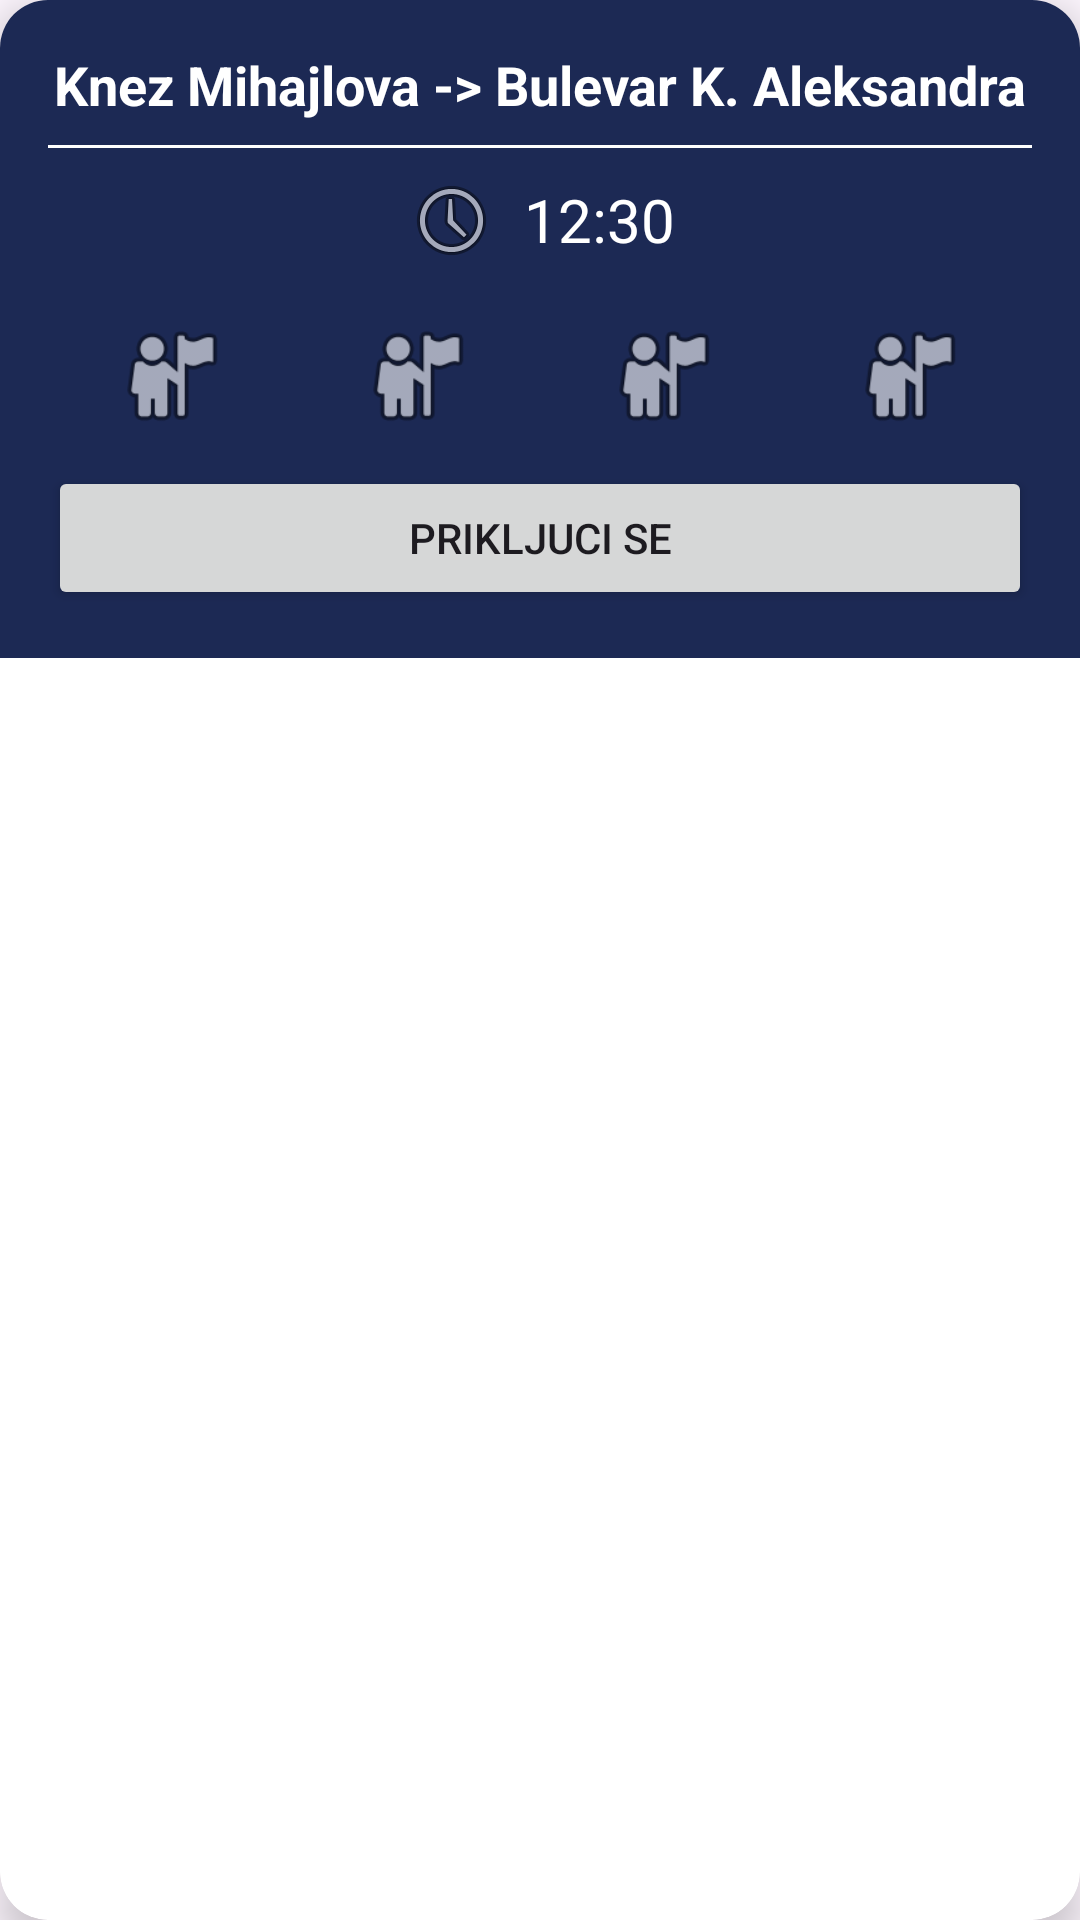

Icon click points for this 1080*1920 phone screenshot, format (x=x, y=y):
recent history: (x=451, y=220)
